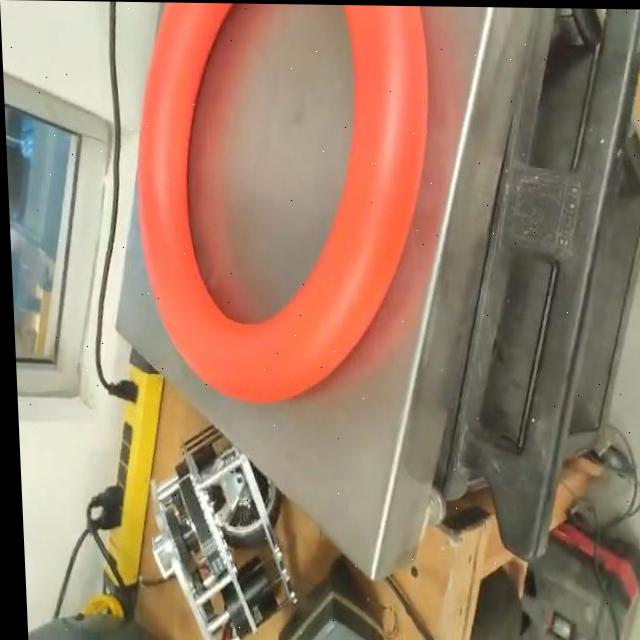note: (124, 1, 444, 411)
